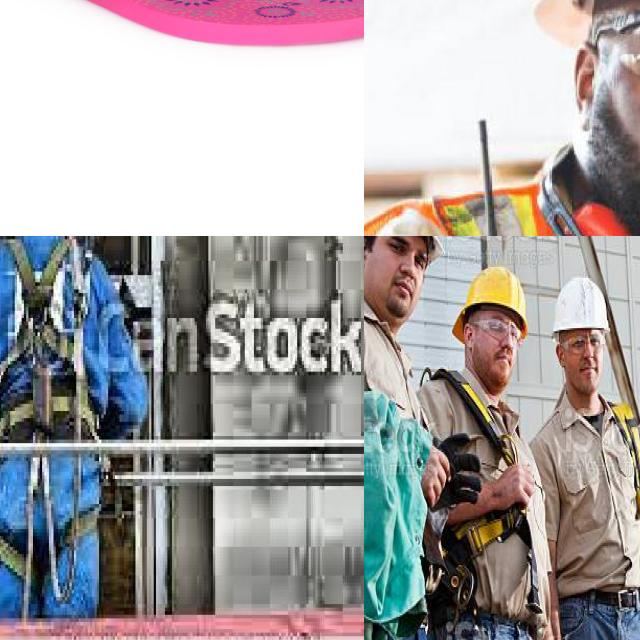Ear-protection: (525, 137, 640, 236)
Harness: (416, 350, 536, 626), (0, 236, 84, 429), (603, 393, 640, 640)
No_Ear-Protection: (461, 322, 476, 351), (555, 342, 567, 368)
No_Glasses: (382, 236, 428, 274)
Sandals: (0, 0, 364, 50)
person: (364, 0, 640, 236)
vest: (364, 171, 640, 236)
